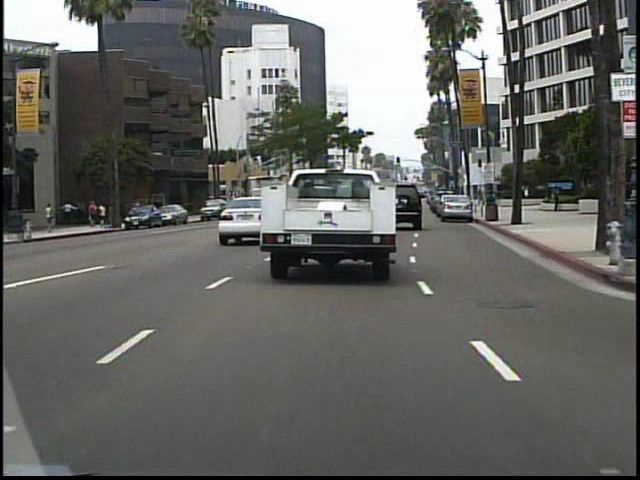person: (47, 200, 60, 236), (550, 183, 563, 214)
